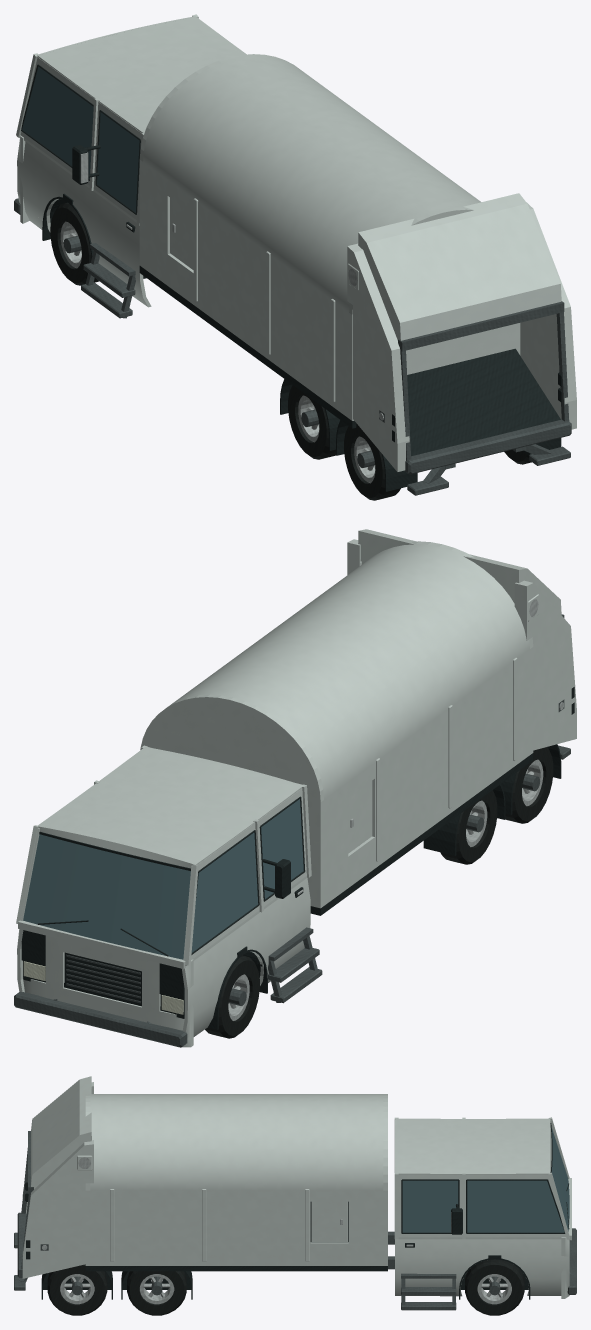
The picture shows the model from 3 angles, top to bottom: view 1: azimuth 30°, elevation 25°; view 2: azimuth 150°, elevation 25°; view 3: azimuth 270°, elevation 25°; orthographic projection. The views are drawn at different scales.
Visible parts, largest first — view 1: B029-04_equipment_paint, B029-04_roof_paint, B029-04_equipment_dark, B029-04_equipment_steel, B029-04_body_shell_paint, B029-04_glazing_glass, B029-04_door_leaf_paint_work_cab_door-1, B029-04_door_leaf_glass_work_cab_door-1, B029-04_steps_steel, B029-04_wheelwell_dark, B029-04_floor_dark, B029-04_wheel_rubber_P-1.0300_3.3800_0.5100 (+3 smaller); view 2: B029-04_equipment_paint, B029-04_glazing_glass, B029-04_roof_paint, B029-04_body_shell_paint, B029-04_door_leaf_paint_work_cab_door-1, B029-04_bumper_steel, B029-04_wheelwell_dark, B029-04_door_leaf_glass_work_cab_door-1, B029-04_floor_dark, B029-04_lamps_dark, B029-04_steps_steel, B029-04_wheel_rubber_P-1.0300_3.3800_0.5100 (+7 smaller); view 3: B029-04_equipment_paint, B029-04_roof_paint, B029-04_body_shell_paint, B029-04_glazing_glass, B029-04_door_leaf_paint_work_cab_door1, B029-04_door_leaf_glass_work_cab_door1, B029-04_wheel_rubber_P1.0300_3.3800_0.5100, B029-04_floor_dark, B029-04_wheel_rubber_P1.0300_-3.7000_0.5100, B029-04_wheel_rubber_P1.0300_-2.3500_0.5100, B029-04_steps_steel, B029-04_wheelwell_dark (+7 smaller).
Boxes of the visible parts, x1,y1,x2,y2 form: B029-04_equipment_paint: (139, 54, 576, 471); B029-04_roof_paint: (37, 17, 246, 133); B029-04_equipment_dark: (407, 348, 560, 456); B029-04_equipment_steel: (379, 301, 571, 474); B029-04_body_shell_paint: (16, 14, 198, 307); B029-04_glazing_glass: (22, 66, 93, 178); B029-04_door_leaf_paint_work_cab_door-1: (91, 101, 145, 305); B029-04_door_leaf_glass_work_cab_door-1: (97, 112, 139, 212); B029-04_steps_steel: (81, 251, 570, 495); B029-04_wheelwell_dark: (42, 196, 561, 491); B029-04_floor_dark: (52, 205, 356, 428); B029-04_wheel_rubber_P-1.0300_3.3800_0.5100: (50, 202, 98, 285); B029-04_equipment_paint: (140, 529, 576, 908); B029-04_glazing_glass: (23, 832, 258, 959); B029-04_roof_paint: (38, 747, 303, 864); B029-04_body_shell_paint: (16, 745, 311, 1047); B029-04_door_leaf_paint_work_cab_door-1: (259, 788, 308, 985); B029-04_bumper_steel: (14, 991, 187, 1047); B029-04_wheelwell_dark: (208, 744, 561, 1029); B029-04_door_leaf_glass_work_cab_door-1: (261, 799, 303, 898); B029-04_floor_dark: (23, 753, 533, 1018); B029-04_lamps_dark: (23, 687, 574, 1015); B029-04_steps_steel: (268, 745, 570, 1003); B029-04_wheel_rubber_P-1.0300_3.3800_0.5100: (205, 955, 259, 1038); B029-04_equipment_paint: (22, 1076, 387, 1278); B029-04_roof_paint: (396, 1118, 548, 1174); B029-04_body_shell_paint: (394, 1117, 571, 1298); B029-04_glazing_glass: (467, 1128, 569, 1232); B029-04_door_leaf_paint_work_cab_door1: (398, 1174, 462, 1296); B029-04_door_leaf_glass_work_cab_door1: (402, 1180, 458, 1232); B029-04_wheel_rubber_P1.0300_3.3800_0.5100: (465, 1259, 524, 1315); B029-04_floor_dark: (85, 1266, 387, 1271); B029-04_wheel_rubber_P1.0300_-3.7000_0.5100: (47, 1264, 107, 1315); B029-04_wheel_rubber_P1.0300_-2.3500_0.5100: (127, 1271, 186, 1315); B029-04_steps_steel: (14, 1232, 456, 1310); B029-04_wheelwell_dark: (41, 1258, 530, 1299).
Bounding box in the file's own units: 2.95 × 3.47 × 9.55.
Materials: 9 (9 with a texture image).
